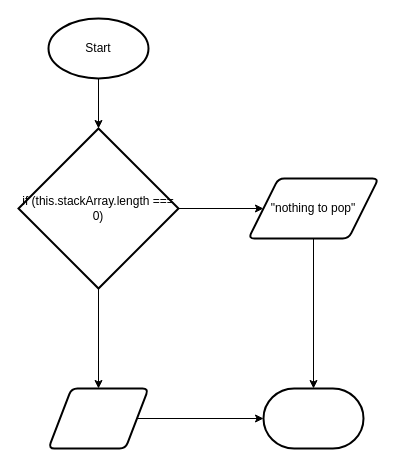
Image size: 396x466. Some labels were removed from this diagram. Here are the shapes that lost their labels. From the top down, the centre of each, then its label:
(x=98, y=418): Pop stack
(x=313, y=418): end of function
